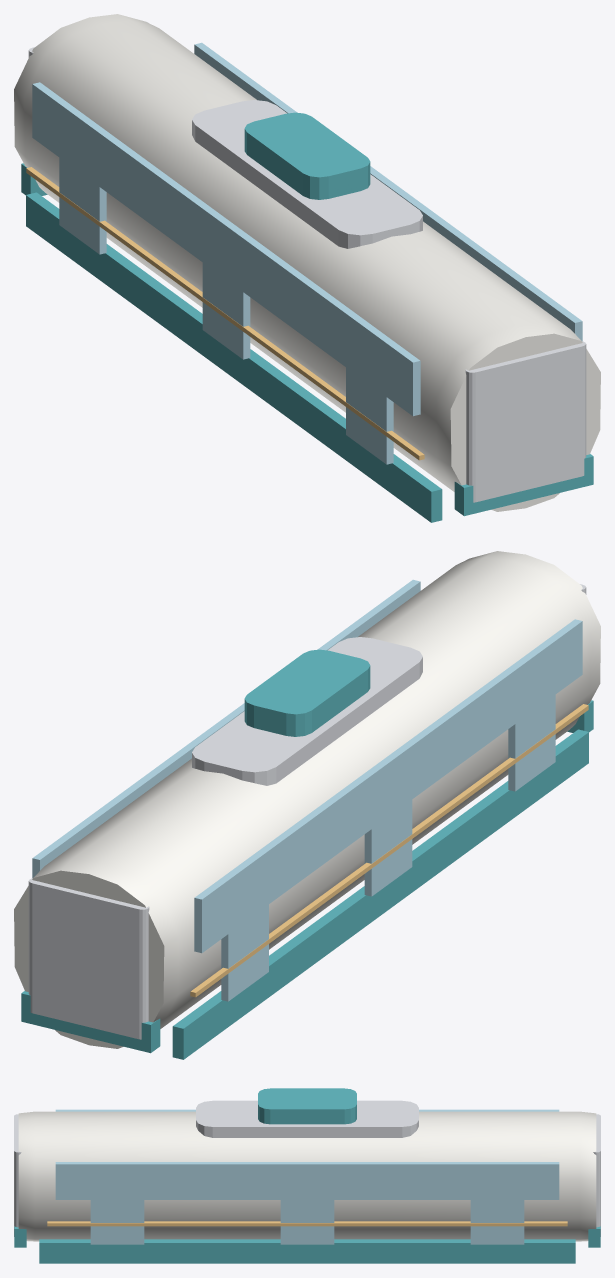
The model's file is arcology-towers-and-skyways-maglev-car-mid-0e0d906c__23262.glb.
3 views of the same model, one above another, from view 1: azimuth 30°, elevation 25°; view 2: azimuth 150°, elevation 25°; view 3: azimuth 270°, elevation 25° (orthographic). The views are drawn at different scales.
Visible parts, largest first — view 1: maglev-car-mid, door-left-46 (×2), door-left-0; view 2: maglev-car-mid, door-left-46 (×2), door-left-0; view 3: maglev-car-mid, door-right-46 (×2), door-right-0.
Part boxes in pixels (x1=…): maglev-car-mid: x1=14, y1=14, x2=600, y2=522; door-left-46 (×2): x1=59, y1=158, x2=393, y2=464; door-left-0: x1=202, y1=263, x2=250, y2=359; maglev-car-mid: x1=14, y1=551, x2=600, y2=1059; door-left-46 (×2): x1=221, y1=695, x2=555, y2=1001; door-left-0: x1=364, y1=800, x2=412, y2=896; maglev-car-mid: x1=14, y1=1088, x2=600, y2=1263; door-right-46 (×2): x1=90, y1=1200, x2=524, y2=1244; door-right-0: x1=280, y1=1200, x2=334, y2=1244.
Bounding box in the file's own units: 3.14 × 3.72 × 14.22.
